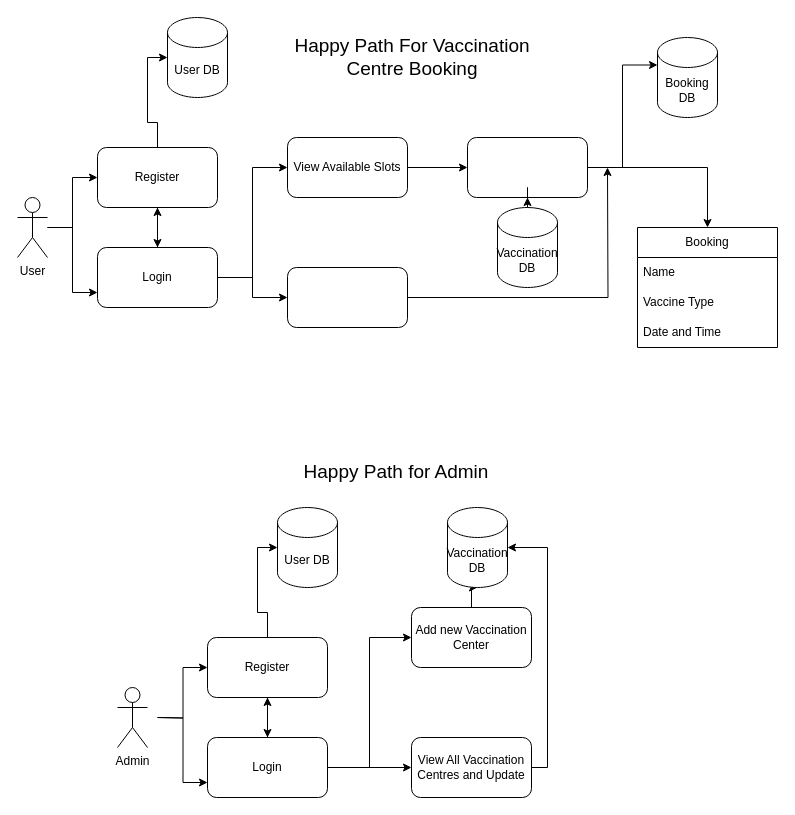
Some shapes in this 795 by 815 pixel diagram are drawn without their labels. The shapes that lost their labels are listed below. From the top down, each one's centre as x and y in pixels, then its label:
At point 527,167: "Book Vaccination Centre Slots".
At point 347,297: "Cancel Booking".
